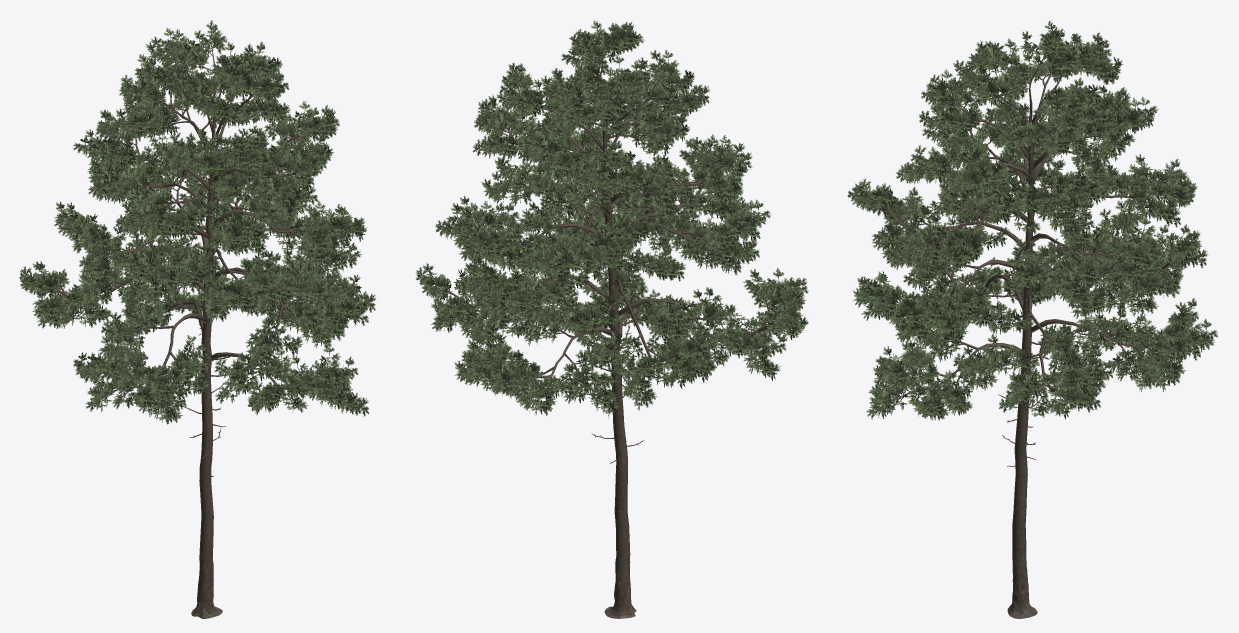
Rendered from Pinus Halapensis New Cmps 2.glb.
The picture shows the model from 3 angles, left to right: view 1: azimuth 30°, elevation 25°; view 2: azimuth 150°, elevation 25°; view 3: azimuth 270°, elevation 25°; orthographic projection. The views are drawn at different scales.
Visible parts, largest first — view 1: AM171_035; view 2: AM171_035; view 3: AM171_035.
Part boxes in pixels (x1,y1,x2,y2): AM171_035: (19,20,375,618); AM171_035: (416,20,808,618); AM171_035: (847,20,1218,618).
Size of the model in its own units: 1.6 by 2.6 by 1.5.
Materials: 2 (2 with a texture image).
